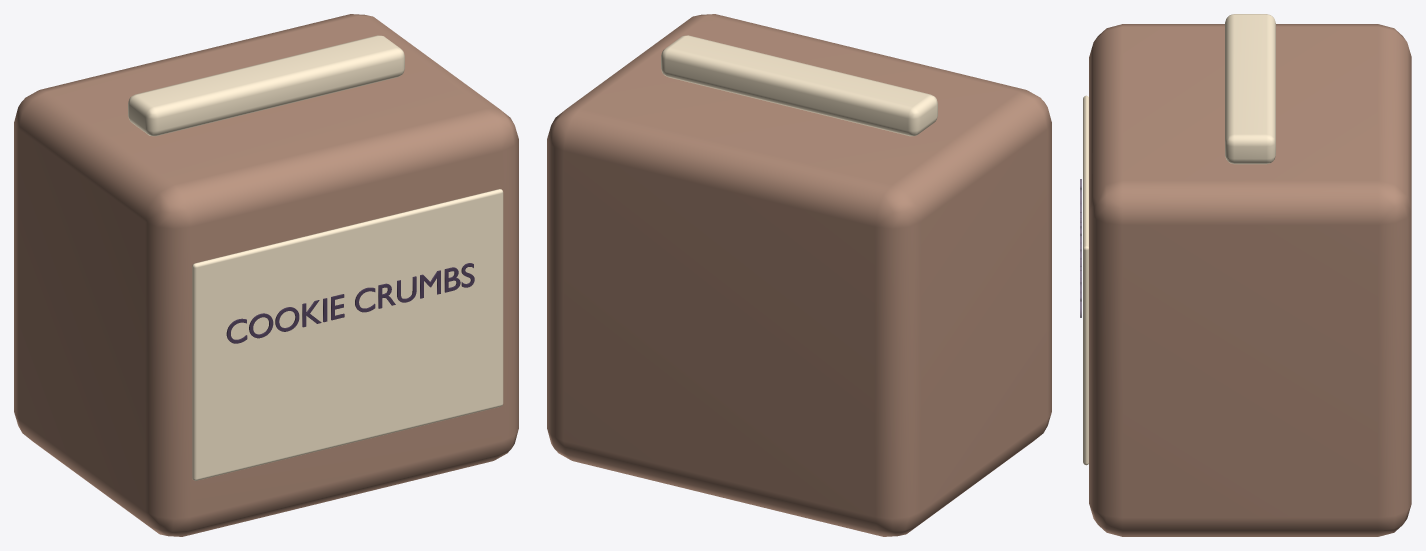
File: Cookie_crumbs_refill.fbx
3 renders of one model, left to right at view 1: azimuth 30°, elevation 25°; view 2: azimuth 150°, elevation 25°; view 3: azimuth 270°, elevation 25°, orthographic.
Parts seen in each view (by area): view 1: Toon_Cookie_crumbs_refill Rounded refill package.001, Toon_Cookie_crumbs_refill Cream paper label.001, Toon_Cookie_crumbs_refill Folded seal.001, Package contents.008; view 2: Toon_Cookie_crumbs_refill Rounded refill package.001, Toon_Cookie_crumbs_refill Folded seal.001; view 3: Toon_Cookie_crumbs_refill Rounded refill package.001, Toon_Cookie_crumbs_refill Folded seal.001, Toon_Cookie_crumbs_refill Cream paper label.001.
Boxes of the visible parts, <box> form: Toon_Cookie_crumbs_refill Rounded refill package.001: <box>14,14,518,536</box>; Toon_Cookie_crumbs_refill Cream paper label.001: <box>192,189,503,480</box>; Toon_Cookie_crumbs_refill Folded seal.001: <box>128,35,404,136</box>; Package contents.008: <box>226,263,474,343</box>; Toon_Cookie_crumbs_refill Rounded refill package.001: <box>547,14,1051,536</box>; Toon_Cookie_crumbs_refill Folded seal.001: <box>661,35,937,136</box>; Toon_Cookie_crumbs_refill Rounded refill package.001: <box>1089,24,1411,536</box>; Toon_Cookie_crumbs_refill Folded seal.001: <box>1225,14,1275,164</box>; Toon_Cookie_crumbs_refill Cream paper label.001: <box>1083,95,1088,465</box>.
Bounding box in the file's own units: 32 × 31.4 × 24.66.
